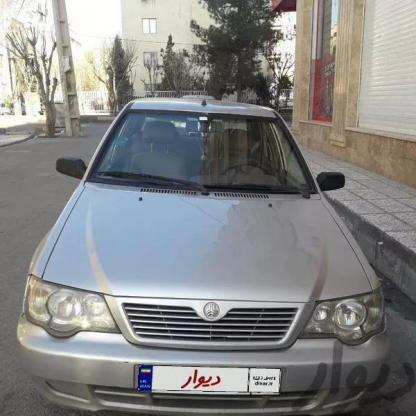Car: (2, 97, 393, 416)
